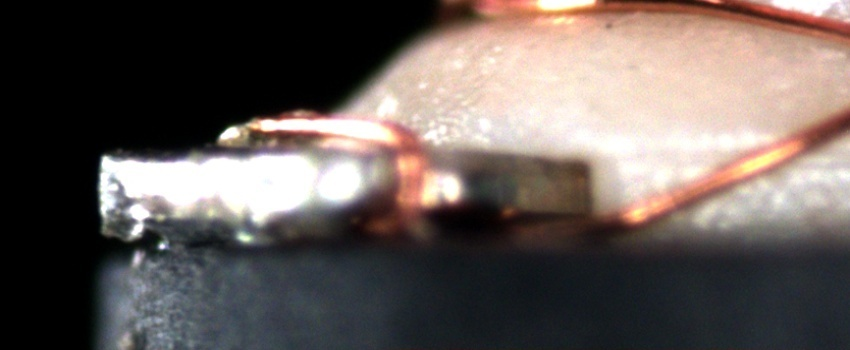DL: (652, 130, 849, 192)
TE: (228, 112, 432, 235)
